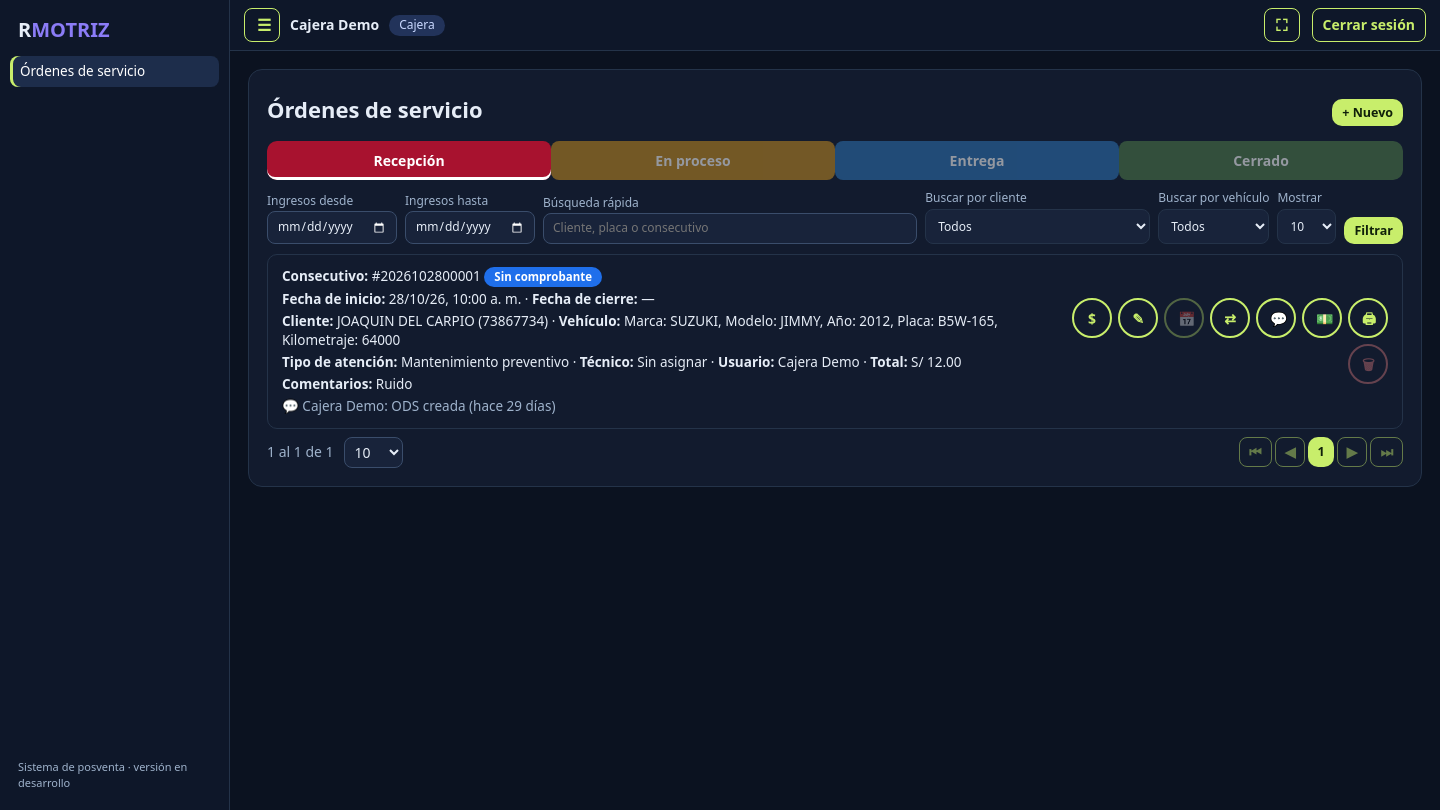
it: Editar: una sola pantalla con «Datos del comprobante», ítems, solo el TOTAL y los abonos; sin «Nuevos ítems» ni subtotales
Click the button named "Editar" at (1138, 318), box x1=1118 y1=298 x2=1158 y2=338
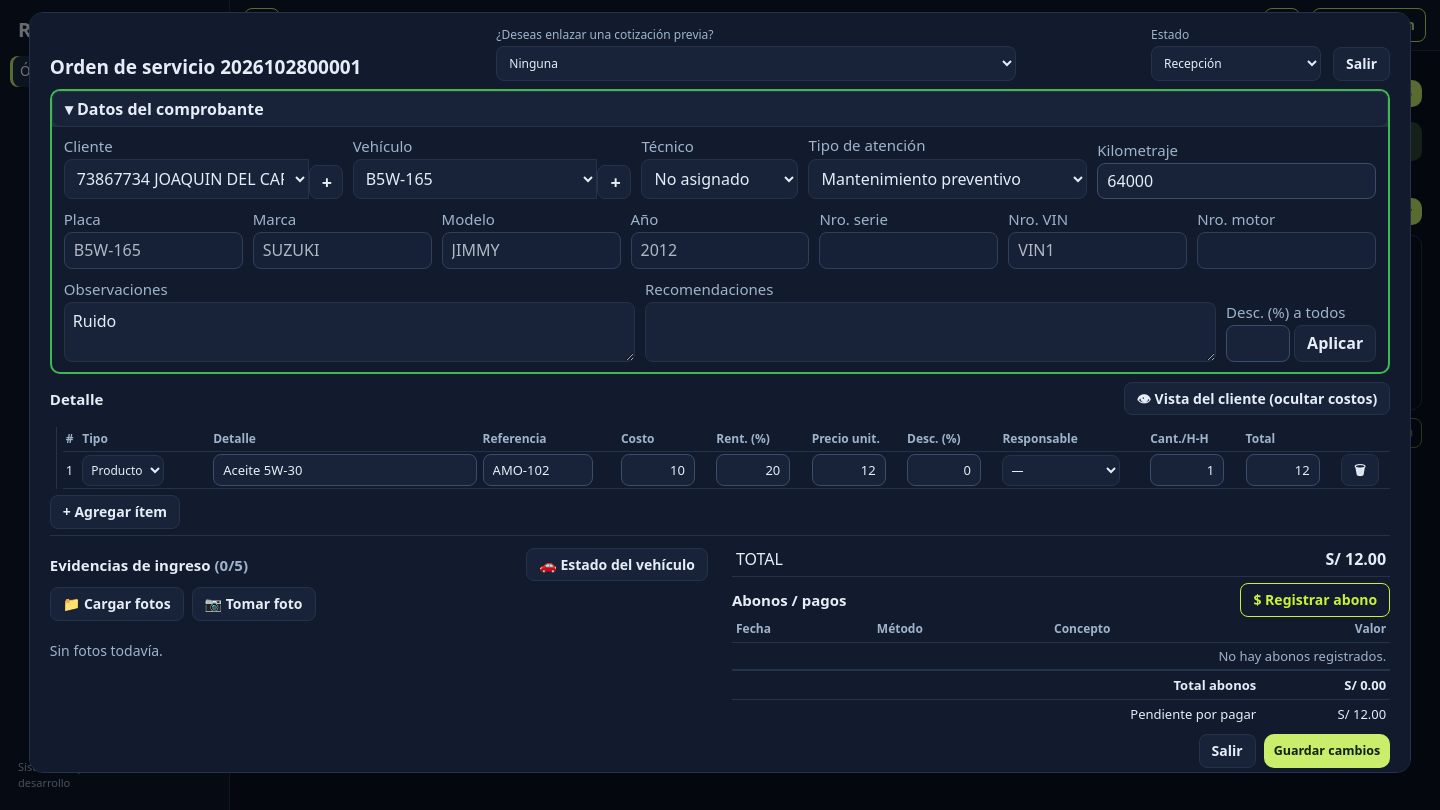
Result: the button "▾ Datos del comprobante" is shown at x1=52 y1=91 x2=1388 y2=127
Result: the dropdown labelled "Técnico" is shown at x1=642 y1=159 x2=798 y2=199
Result: the field showing "AMO-102" is shown at x1=483 y1=454 x2=593 y2=486
